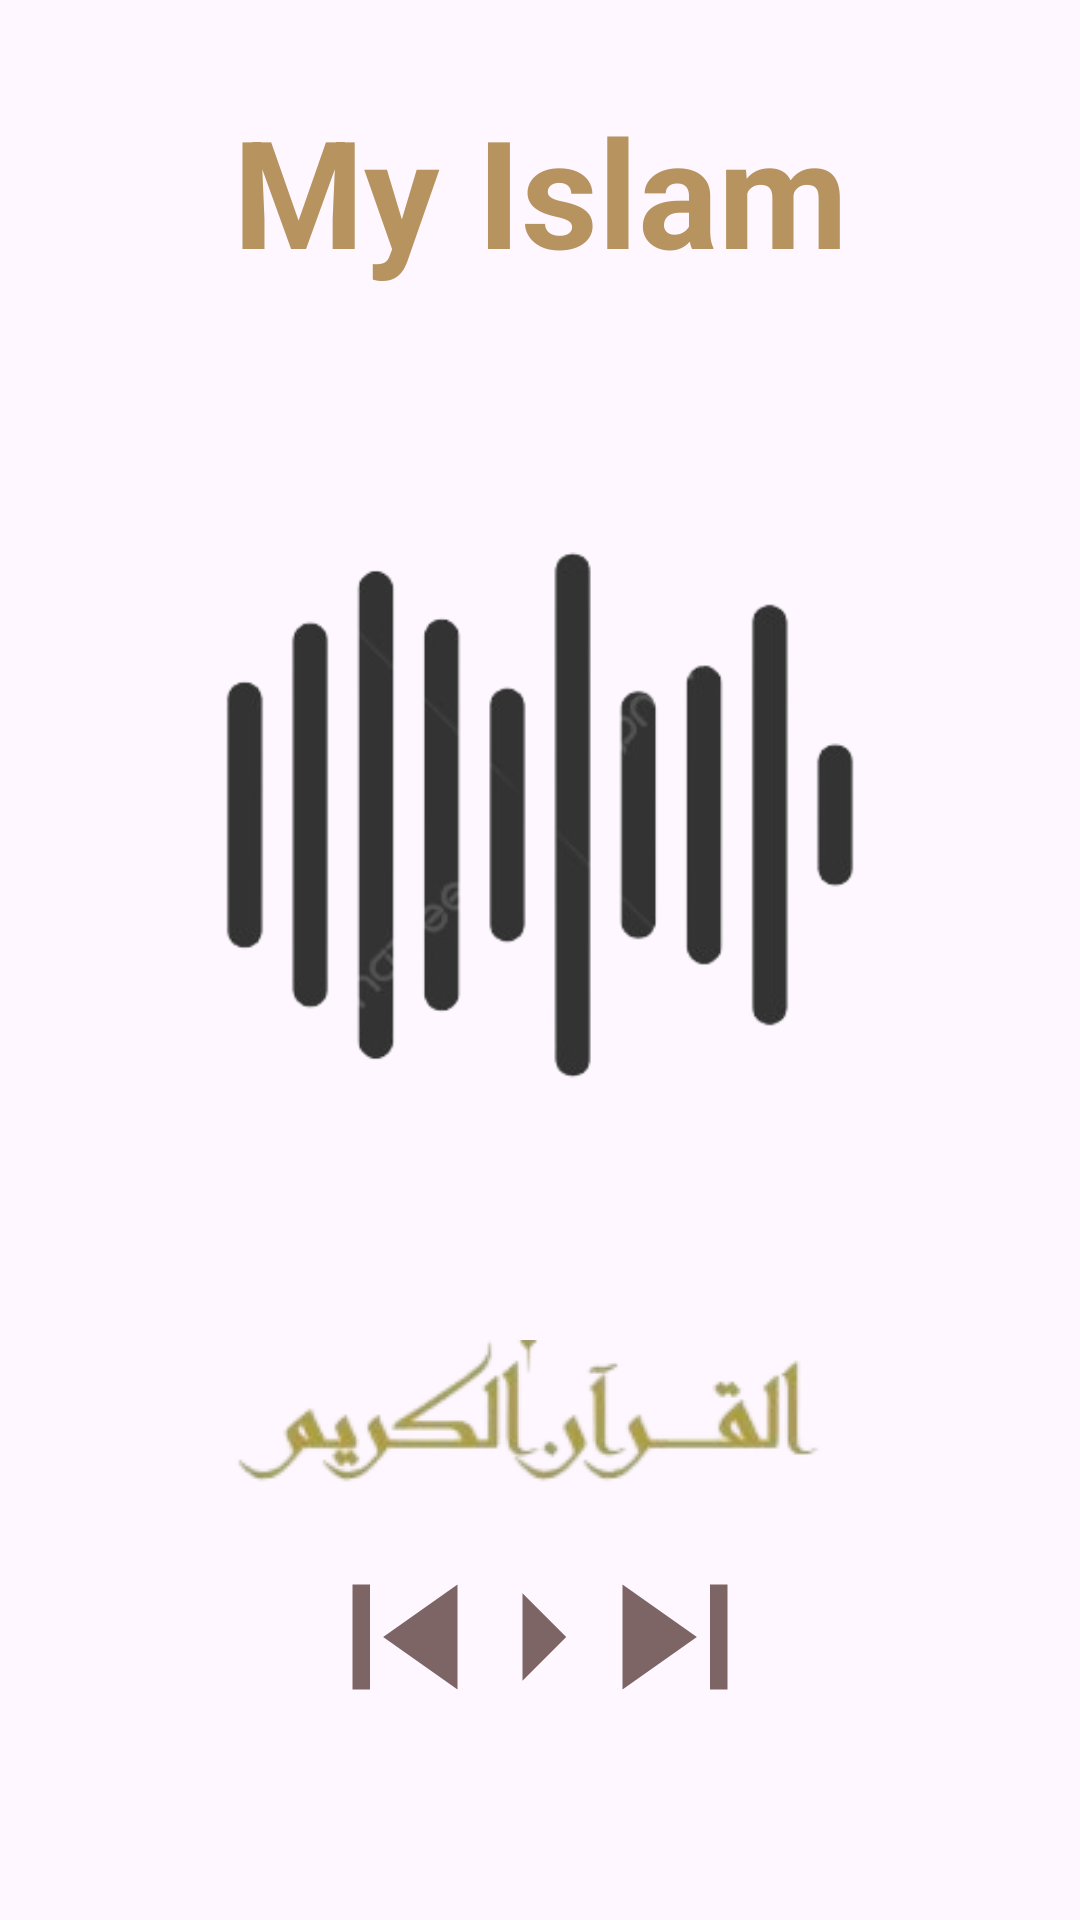

Named icons in this screenshot (1080w x 1920h) and their centers, (x,y):
skip next: (675,1637)
skip previous: (405,1637)
